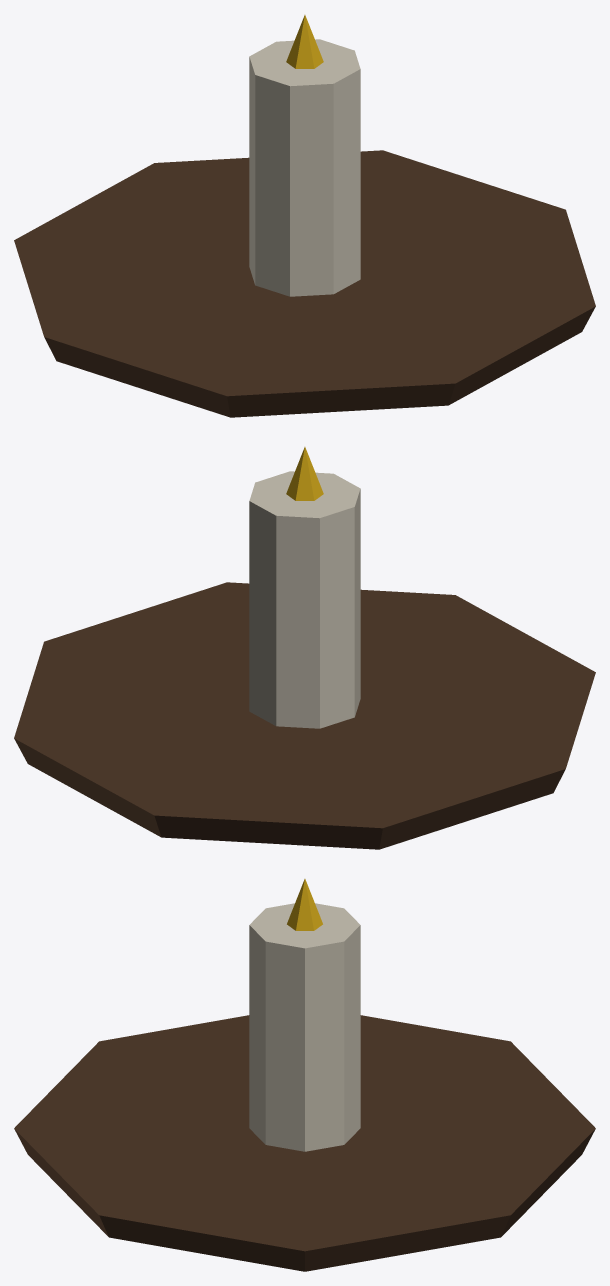
The model's file is candle-holder-15.glb.
The picture shows the model from 3 angles, top to bottom: view 1: azimuth 30°, elevation 25°; view 2: azimuth 150°, elevation 25°; view 3: azimuth 270°, elevation 25°; orthographic projection. The views are drawn at different scales.
Parts seen in each view (by area): view 1: candle_holder_15; view 2: candle_holder_15; view 3: candle_holder_15.
Part boxes in pixels (x1,y1,x2,y2): candle_holder_15: [14, 15, 595, 417]; candle_holder_15: [14, 447, 595, 849]; candle_holder_15: [14, 879, 595, 1271].
Bounding box in the file's own units: 0.4 × 0.2097 × 0.4.
